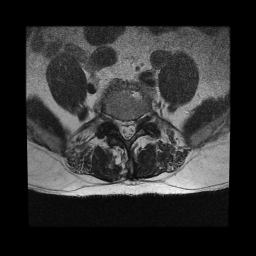CCS_normal: (124, 114, 130, 144)
LFS_normal: (135, 110, 142, 130)
LLS_normal: (130, 113, 136, 140)
RFS_normal: (111, 110, 118, 132)
RLS_normal: (118, 114, 124, 141)
